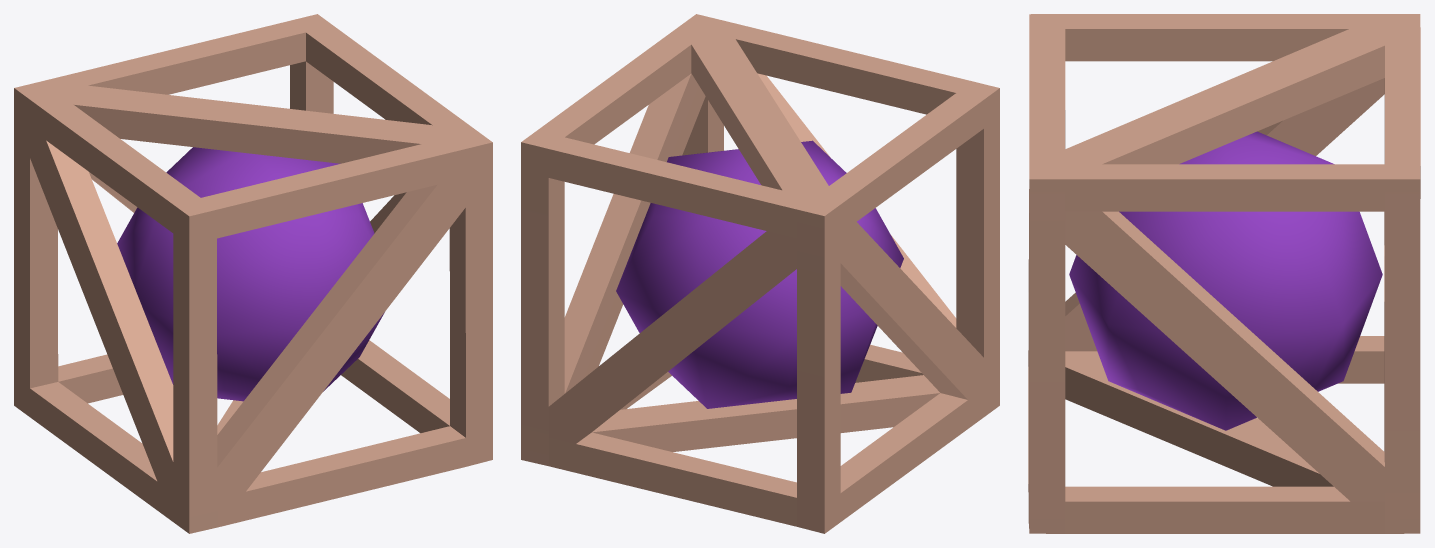
Rendered from gBMagicCrate_01.fbx.
3 renders of one model, left to right at view 1: azimuth 30°, elevation 25°; view 2: azimuth 150°, elevation 25°; view 3: azimuth 270°, elevation 25°, orthographic. The views are drawn at different scales.
Visible parts, largest first — view 1: Crate_02, magicOrb_01; view 2: Crate_02, magicOrb_01; view 3: Crate_02, magicOrb_01.
Boxes of the visible parts, box(x1,y1,x2,y2) form: Crate_02: box(14, 14, 492, 533); magicOrb_01: box(117, 147, 384, 401); Crate_02: box(521, 14, 999, 533); magicOrb_01: box(616, 140, 903, 408); Crate_02: box(1028, 14, 1420, 533); magicOrb_01: box(1069, 131, 1382, 430).
Bounding box in the file's own units: 110 × 110 × 110.
